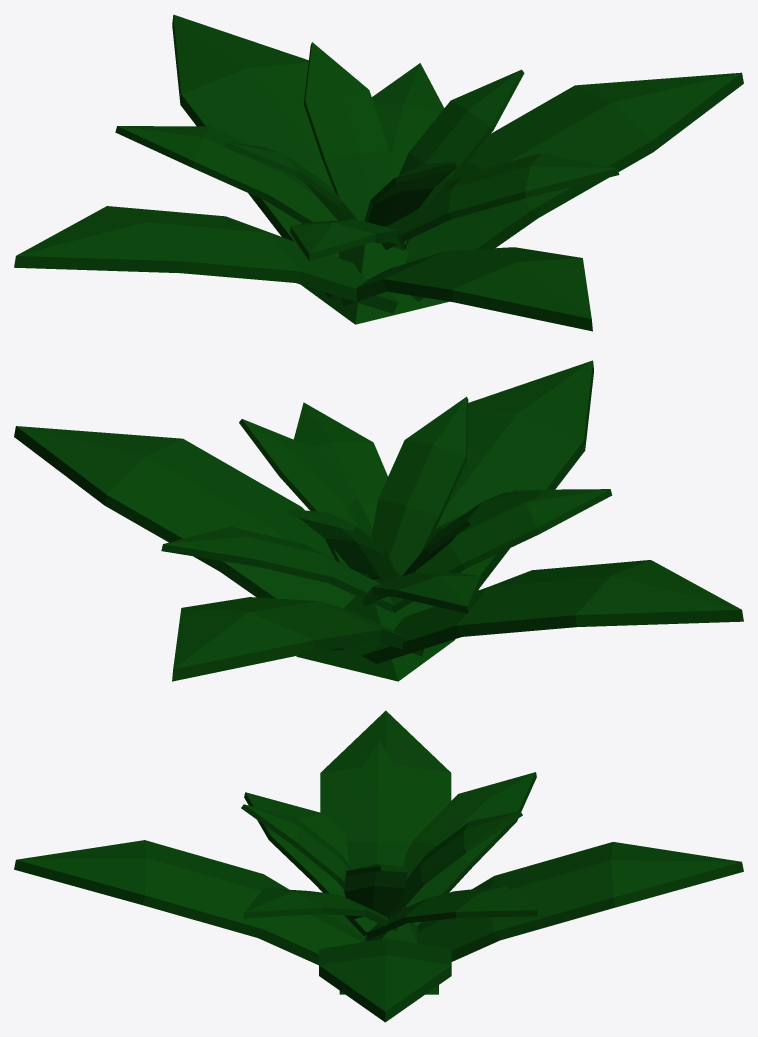
The model's file is Bush.FBX.
The picture shows the model from 3 angles, top to bottom: view 1: azimuth 30°, elevation 25°; view 2: azimuth 150°, elevation 25°; view 3: azimuth 270°, elevation 25°; orthographic projection. The views are drawn at different scales.
Parts seen in each view (by area): view 1: Object001, Pyramid001; view 2: Object001, Pyramid001; view 3: Object001, Pyramid001.
Part boxes in pixels (x1,y1,x2,y2): Object001: [14, 14, 743, 331]; Pyramid001: [301, 242, 448, 324]; Object001: [14, 360, 743, 681]; Pyramid001: [296, 596, 455, 681]; Object001: [14, 710, 743, 1022]; Pyramid001: [339, 922, 438, 994].
Bounding box in the file's own units: 38.93 × 9.77 × 38.93.
